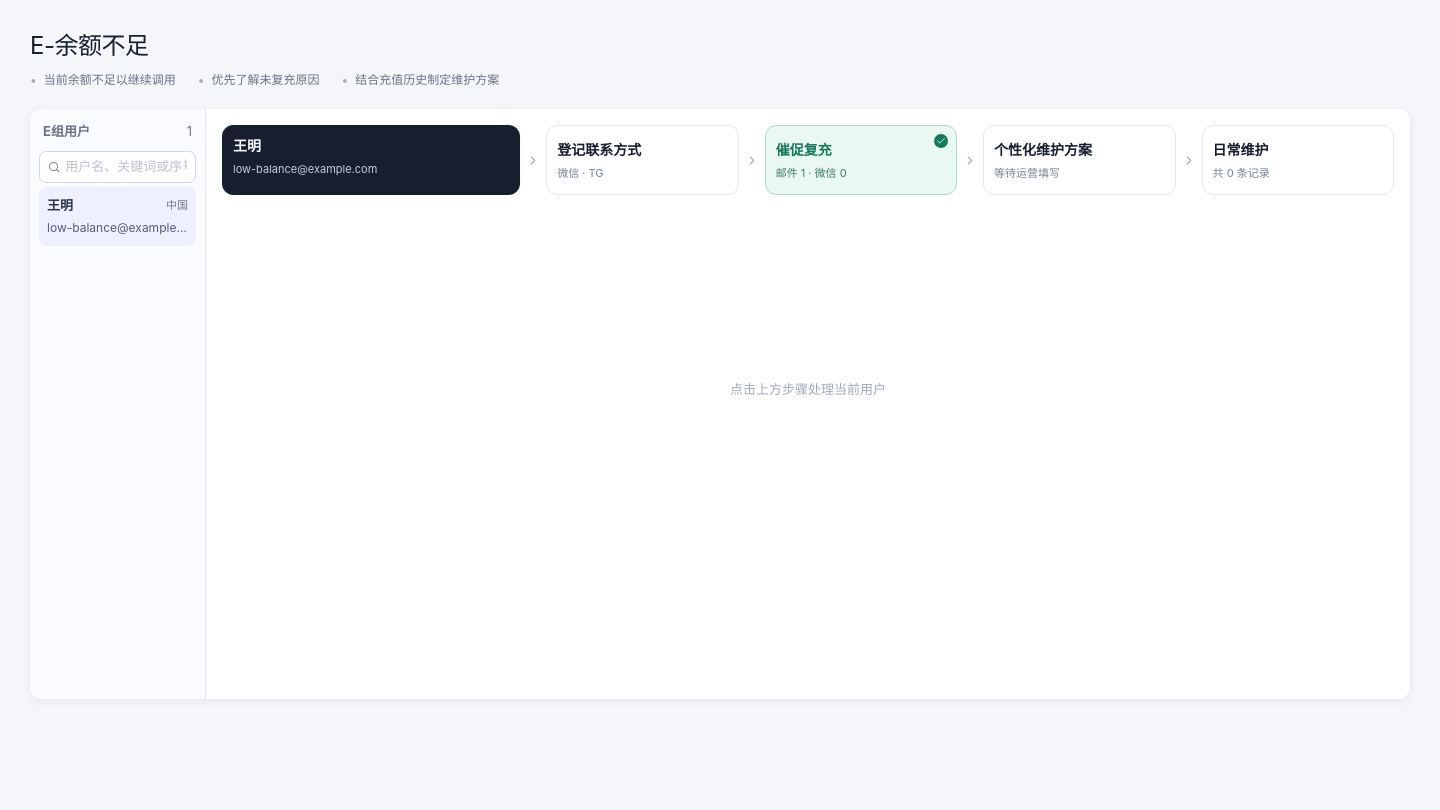
Test case: EGroupWorkspace › shows recharge details and accepts a personalized care plan
This screenshot has width=1440, height=810.
What coordinates should you click on to do the following:
click the button "个性化维护方案 等待运营填写"
I would click on:
 (1079, 160)
Its box is x1=983 y1=125 x2=1176 y2=195.
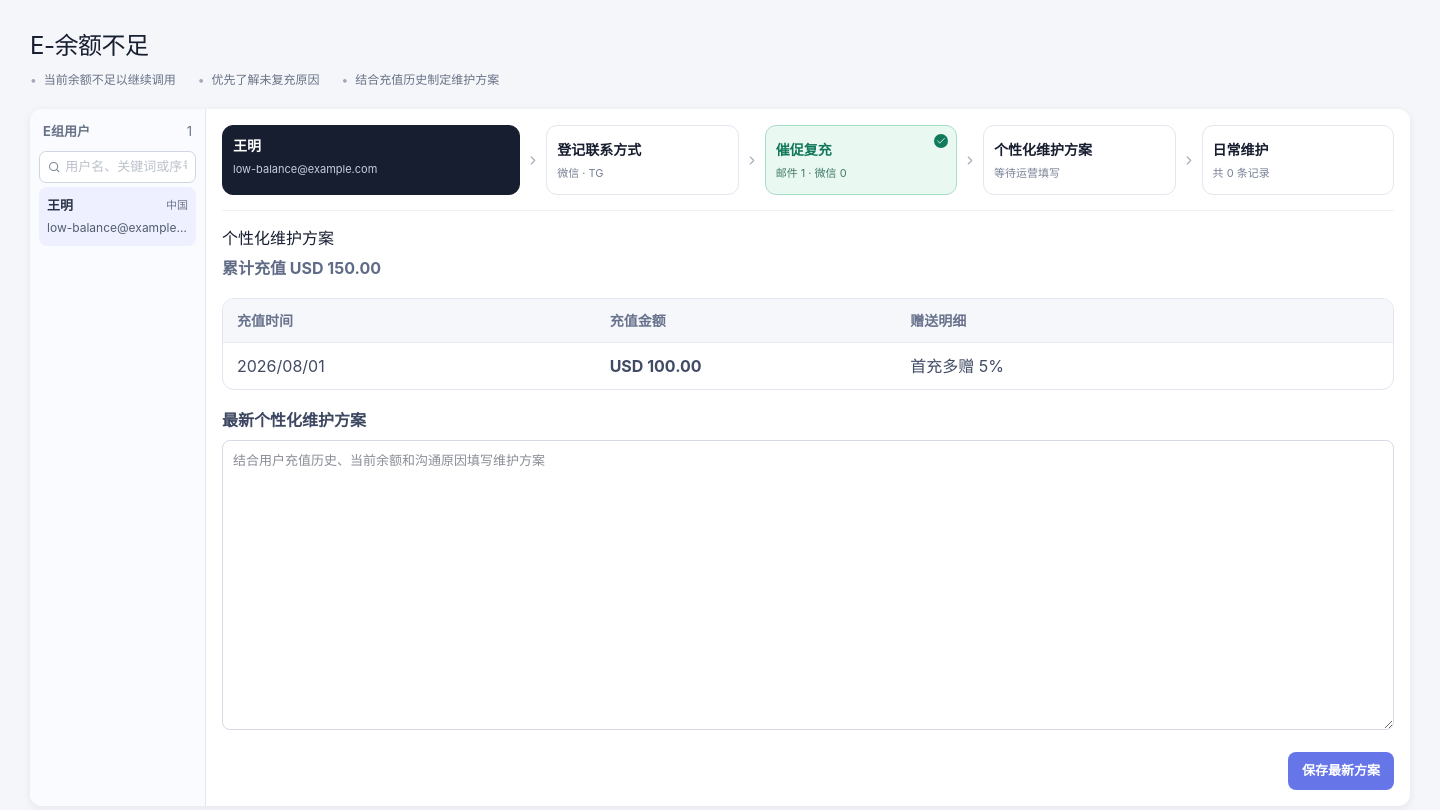
Expected: the text "累计充值 USD 150.00" is shown, x1=222 y1=256 x2=381 y2=280
Expected: the text "USD 100.00" is shown, x1=610 y1=356 x2=702 y2=376
Expected: the text "首充多赠 5%" is shown, x1=910 y1=356 x2=1004 y2=376
